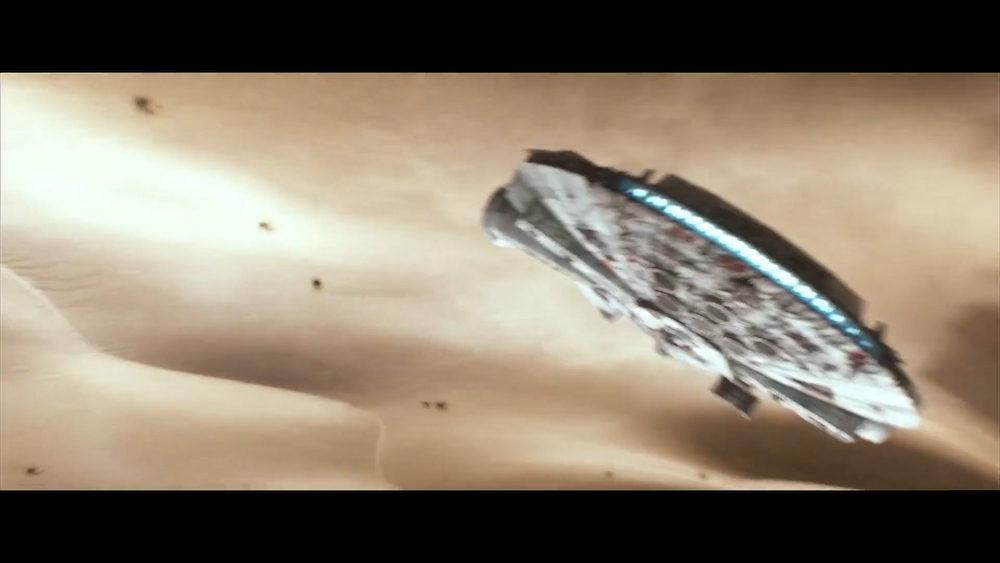Millennium Falcon: (482, 147, 931, 448)
